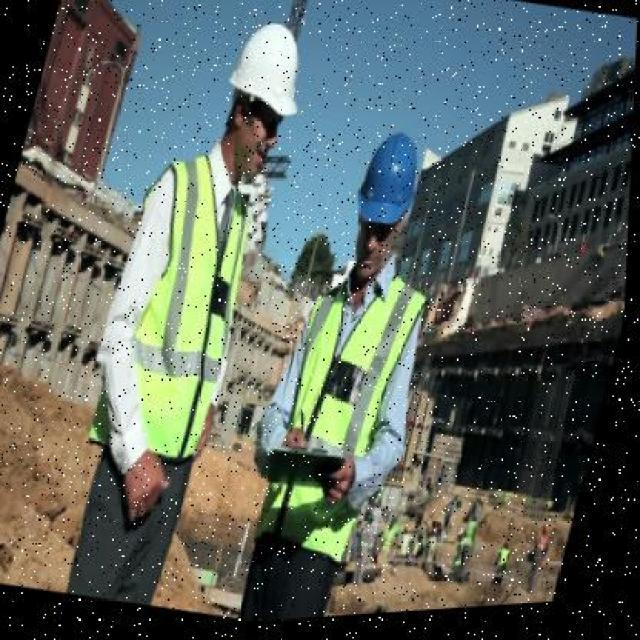helmet: (220, 8, 324, 136), (346, 125, 436, 251)
vest: (245, 262, 439, 588), (89, 153, 273, 479)
